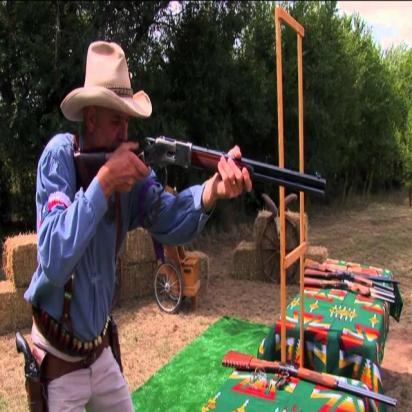Gun: (73, 130, 326, 234)
